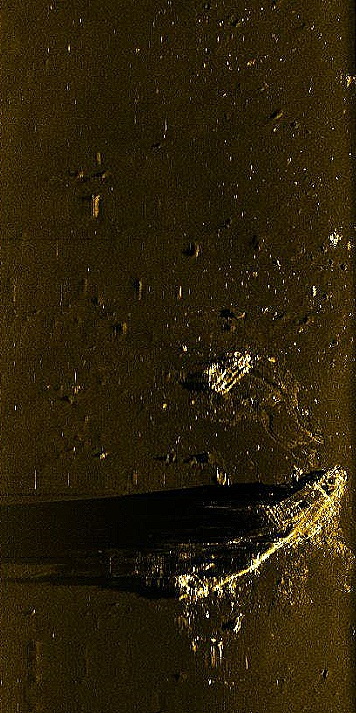ship: (172, 461, 348, 606)
